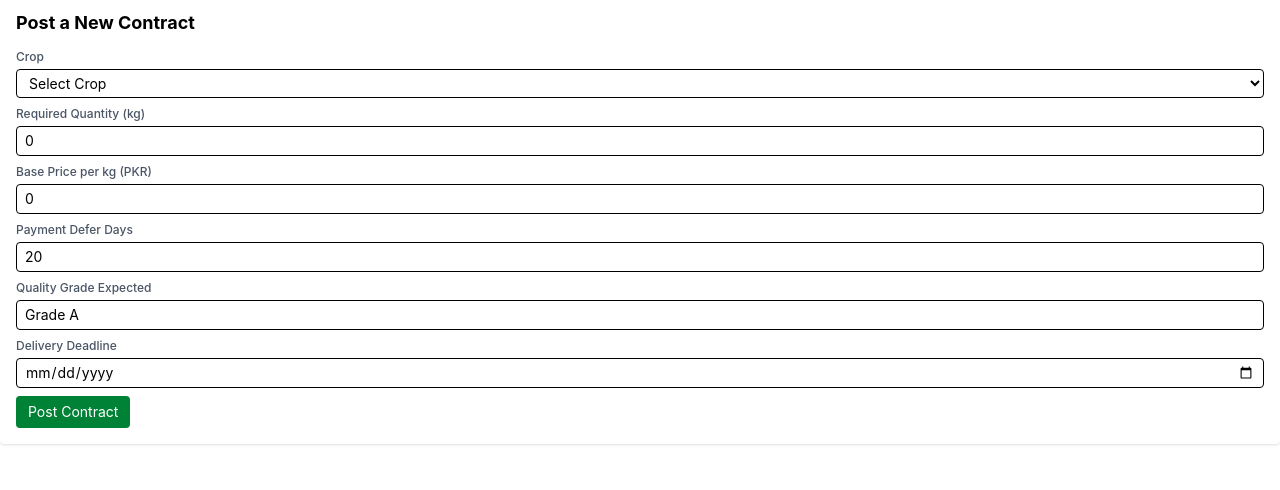
Test: PostContractForm.vue › IMPROVED: blocks submit with no crop selected
Click the button "Post Contract" at [73, 412], box [16,396,130,428]
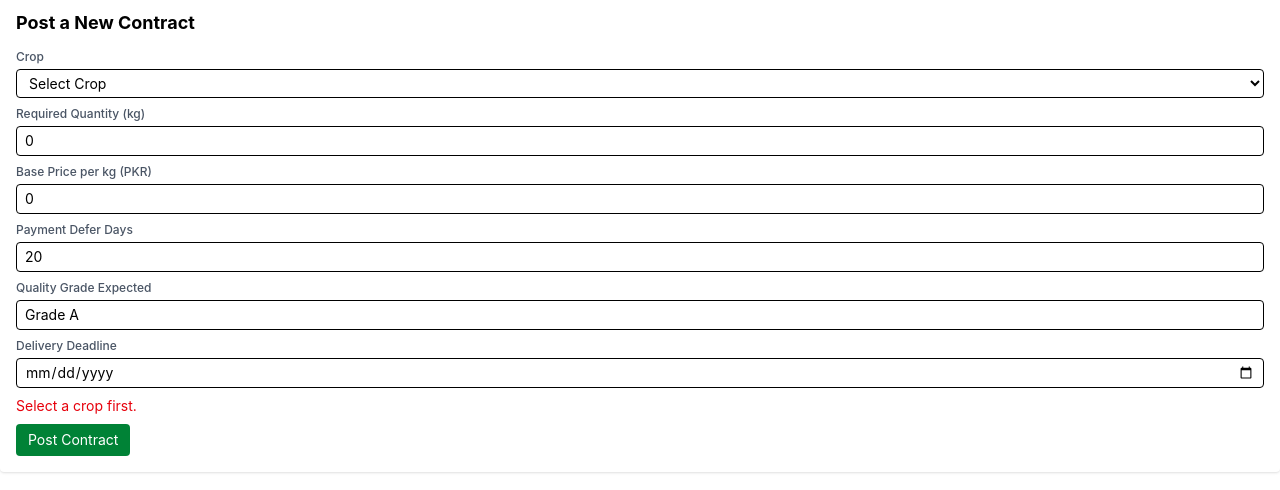
Now the text "Select a crop first." is shown, box [16,397,137,414]
